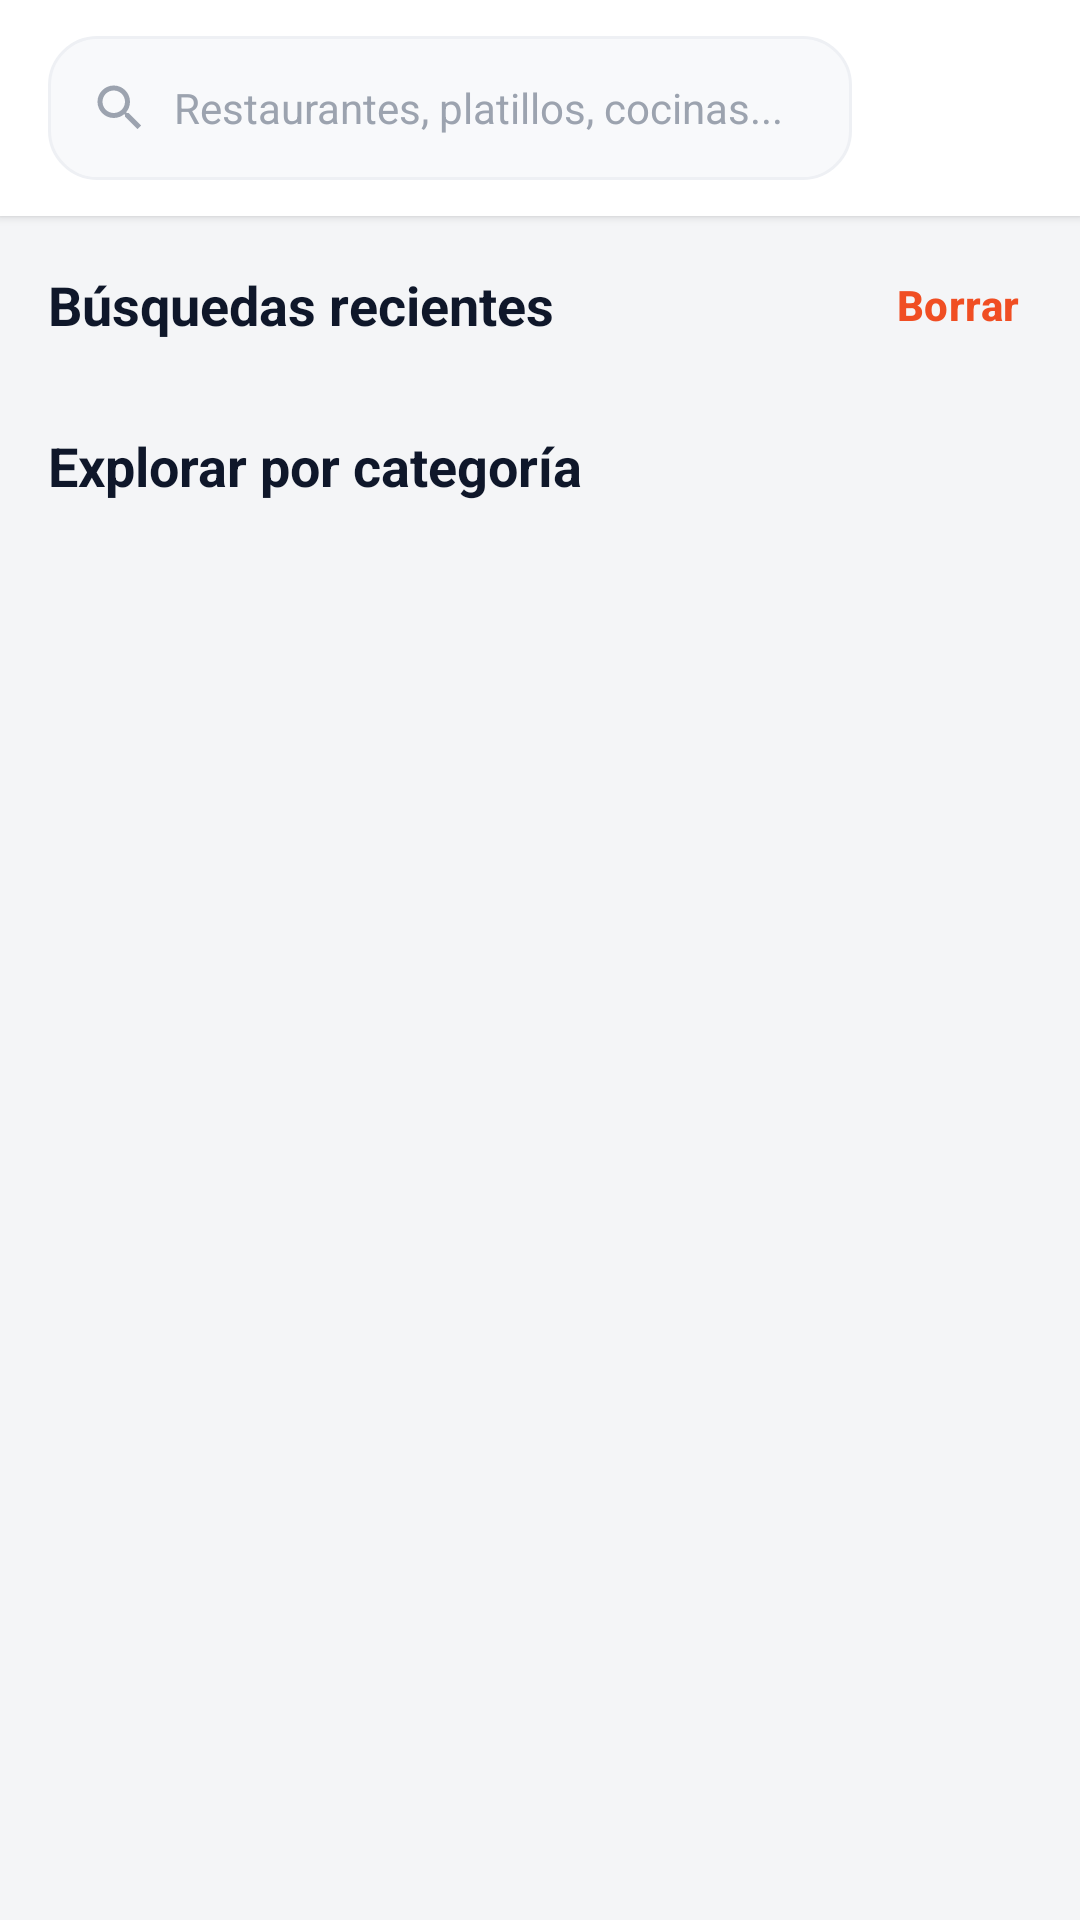

Locate icon controls on the screen. Image size 1080×1920, boxes as (x1, y1, x2, y2).
search: (97, 85, 141, 129)
